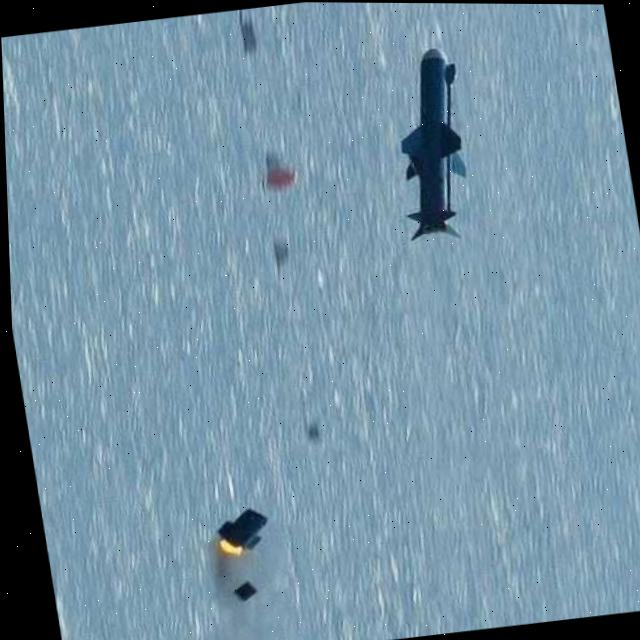missile: (356, 38, 492, 253)
